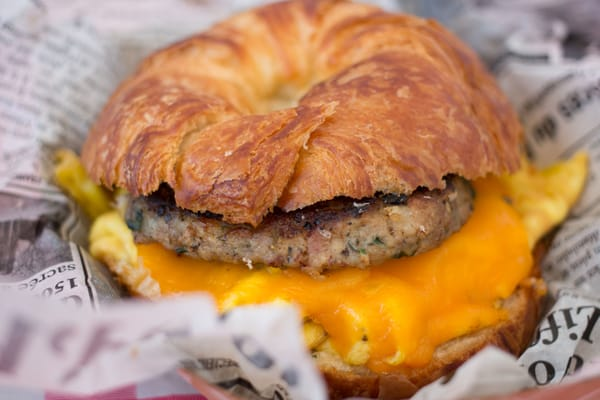soup: (75, 4, 590, 308)
